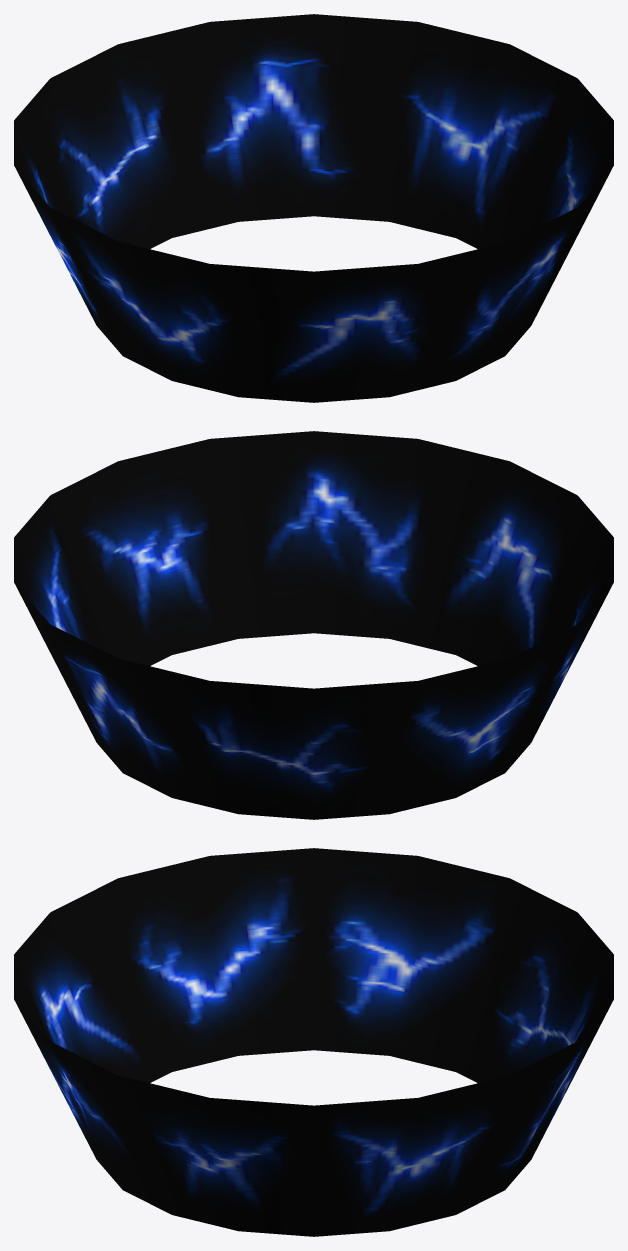
Rendered from cone_chuansong.FBX.
The picture shows the model from 3 angles, top to bottom: view 1: azimuth 30°, elevation 25°; view 2: azimuth 150°, elevation 25°; view 3: azimuth 270°, elevation 25°; orthographic projection.
Visible parts, largest first — view 1: Cylinder001; view 2: Cylinder001; view 3: Cylinder001.
Boxes of the visible parts, <box> form: Cylinder001: <box>14,14,613,402</box>; Cylinder001: <box>14,431,613,819</box>; Cylinder001: <box>14,848,613,1236</box>.
Size of the model in its own units: 166 by 50 by 163.
